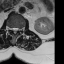CCS_normal: (14, 26, 16, 36)
LFS_stenosis: (19, 26, 21, 32)
LLS_normal: (16, 26, 18, 33)
RFS_normal: (9, 25, 11, 32)
RLS_normal: (11, 25, 14, 33)
